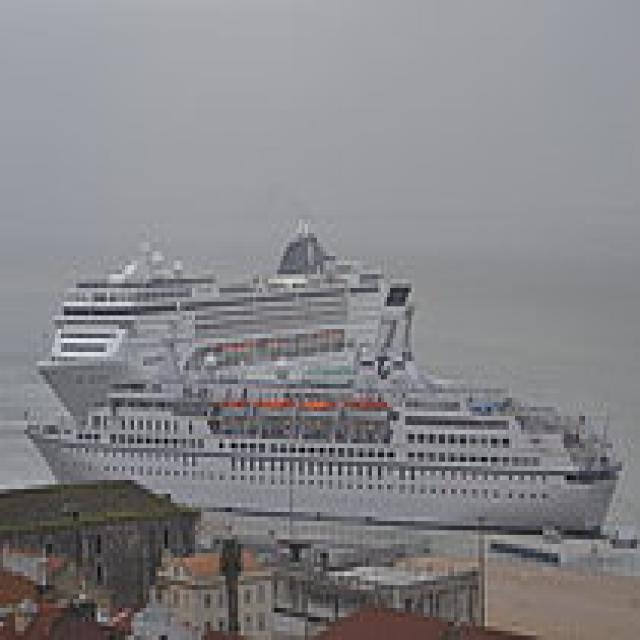Ship: (1, 344, 638, 550), (38, 234, 419, 426)
